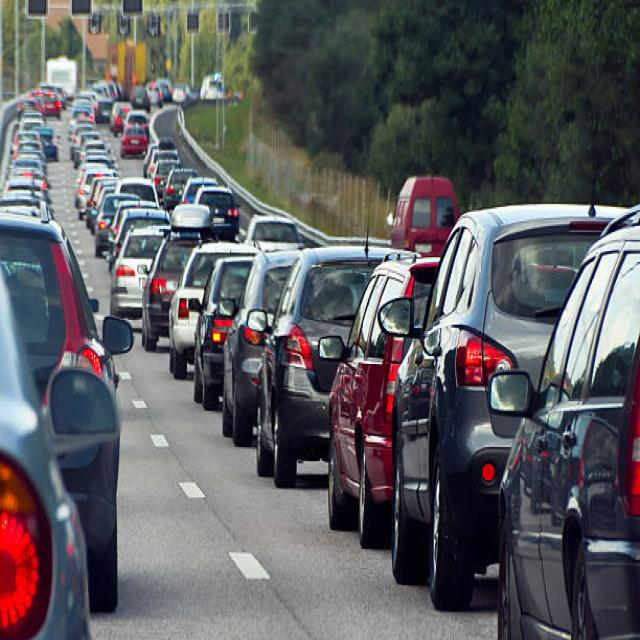Car: (486, 202, 639, 638), (0, 213, 133, 612), (254, 243, 418, 488), (324, 254, 441, 548), (221, 248, 300, 445)
